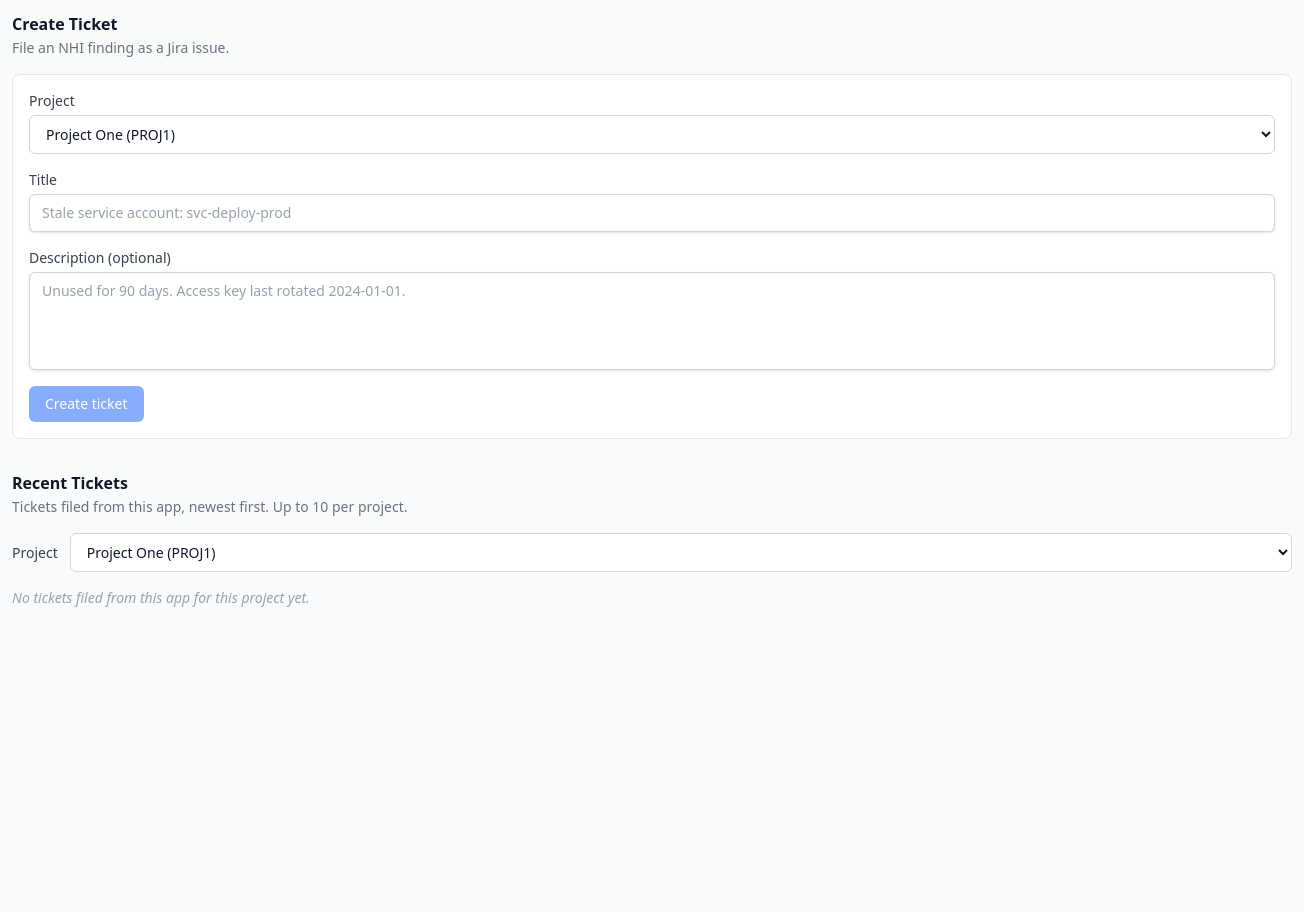
Scenario: TicketsSection — create ticket (success) › clears title and description after successful creation
The width and height of the screenshot is (1304, 912).
Expected: the number of dropdowns labelled "Project" is 2, [29,115,1275,154]; [70,533,1292,572]
Type "My finding" into the field labelled "Title".
click(652, 213); type("My finding")  # box [29,194,1275,232]
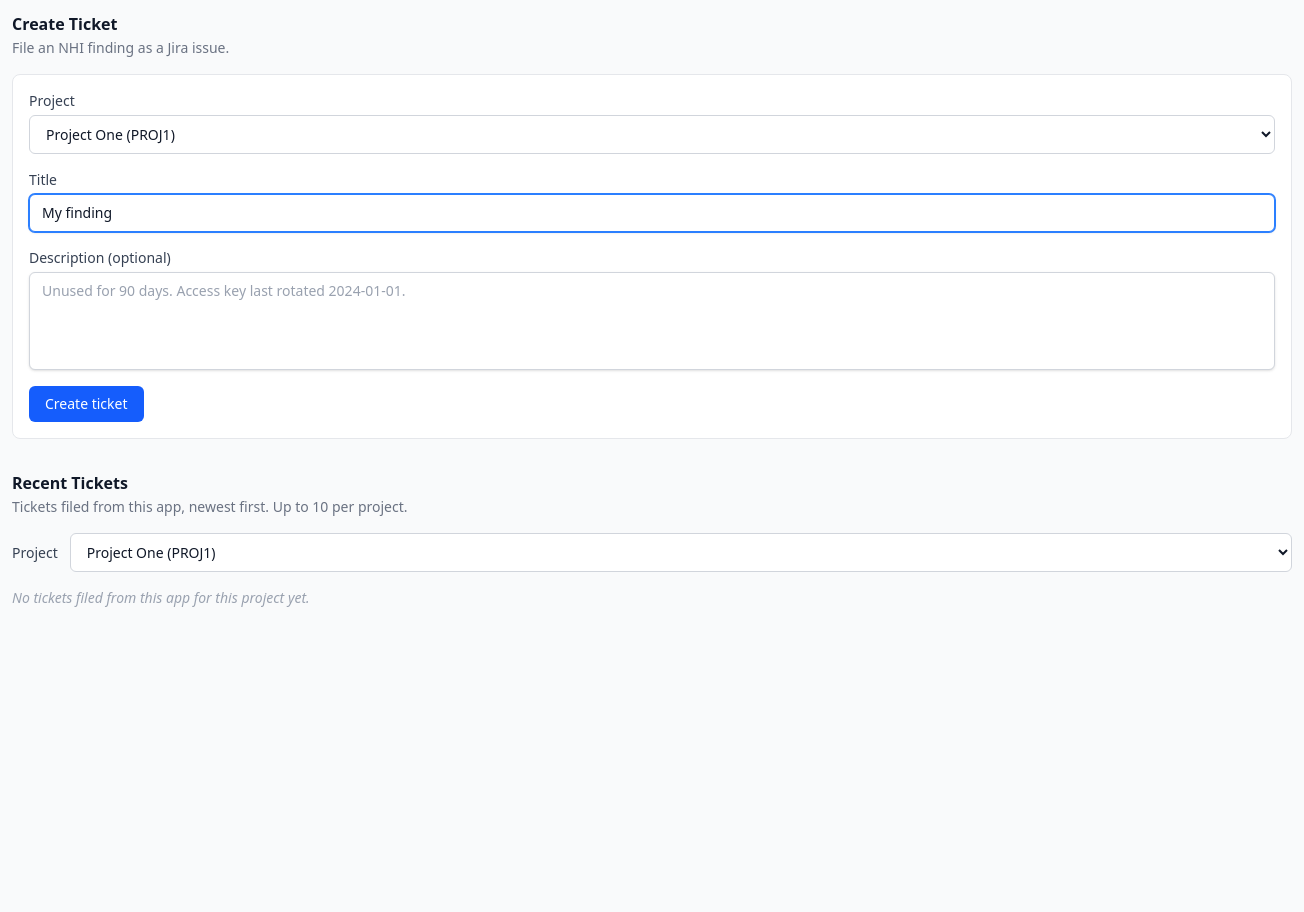
Click the button "Create ticket".
click(86, 404)  # box [29,386,144,422]
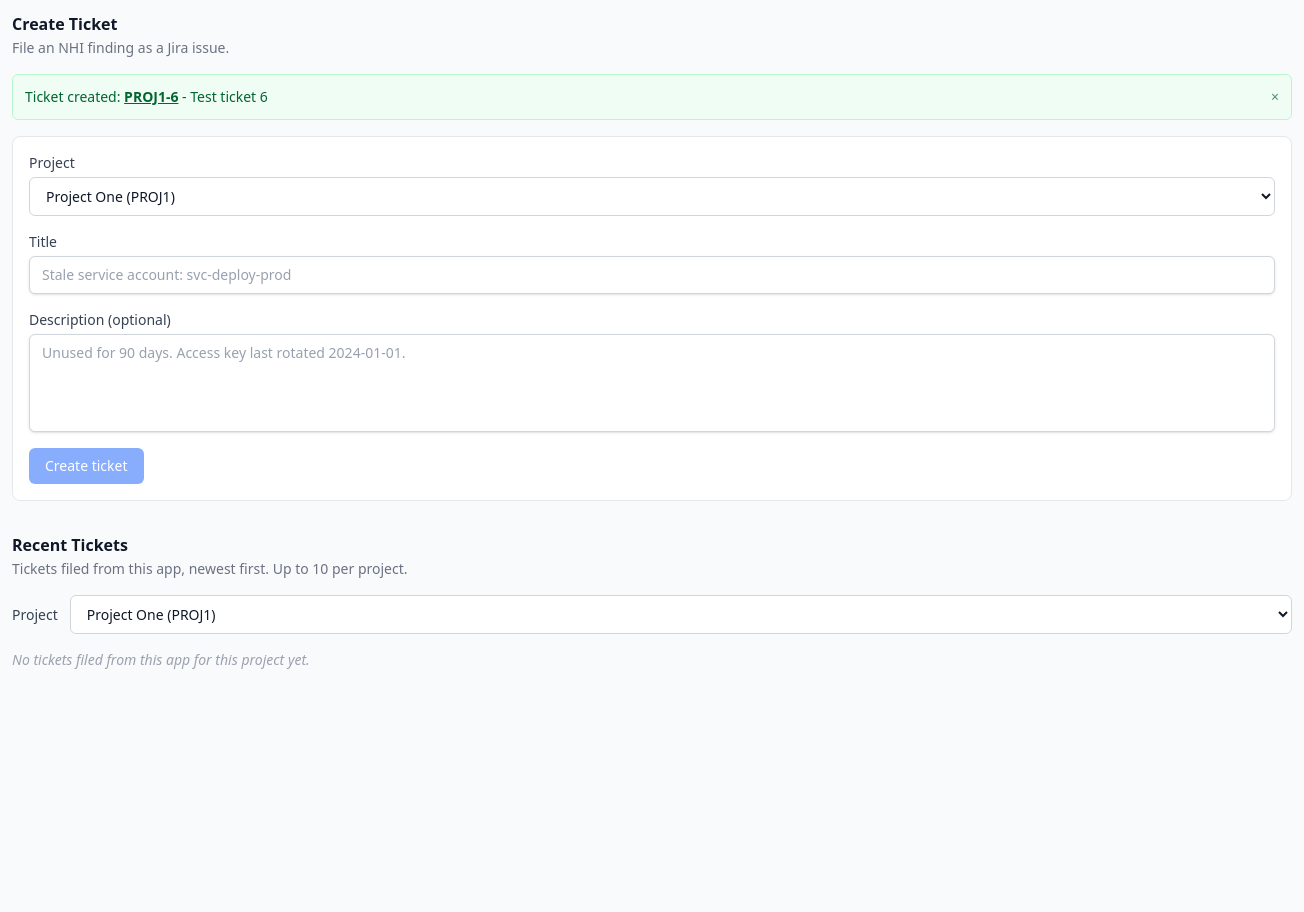
Expected: the text "Ticket created: PROJ1-6 - Test ticket 6" is shown, [25,87,268,106]
Expected: the field labelled "Title" is empty, [29,256,1275,294]
